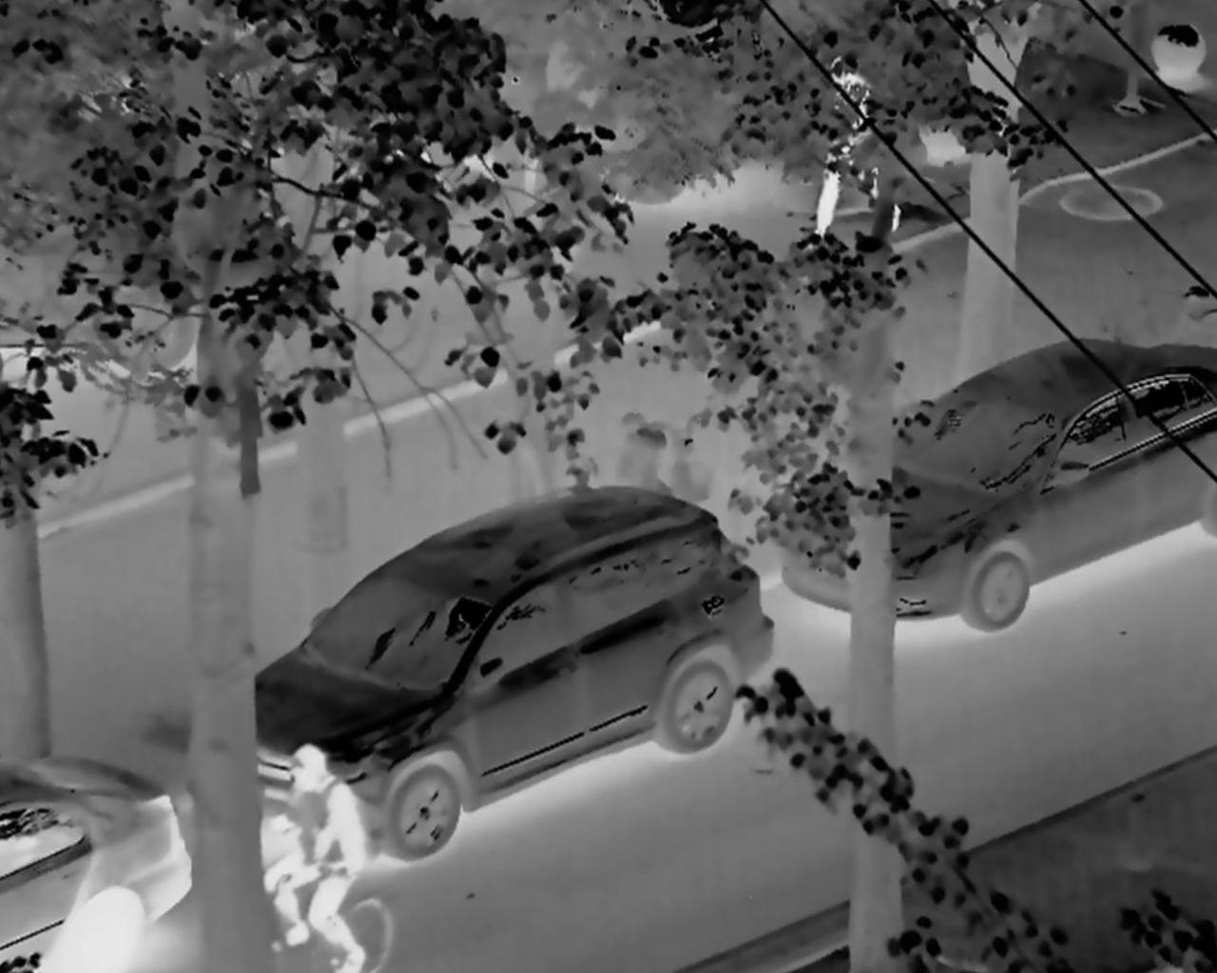person: (260, 743, 406, 970), (808, 57, 898, 255)
